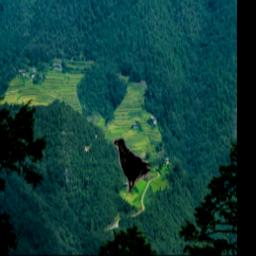Crow: (113, 140, 150, 202)
